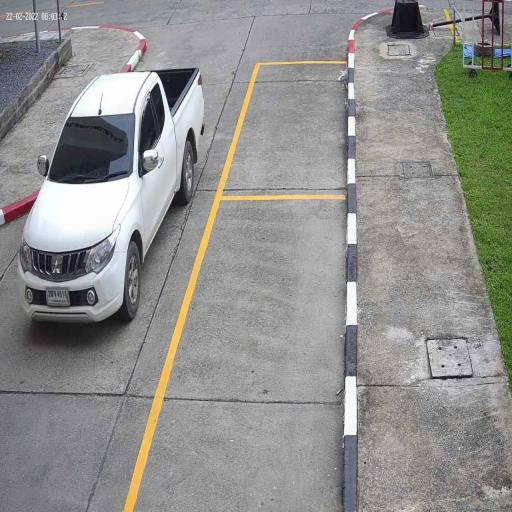car: (17, 66, 206, 328)
